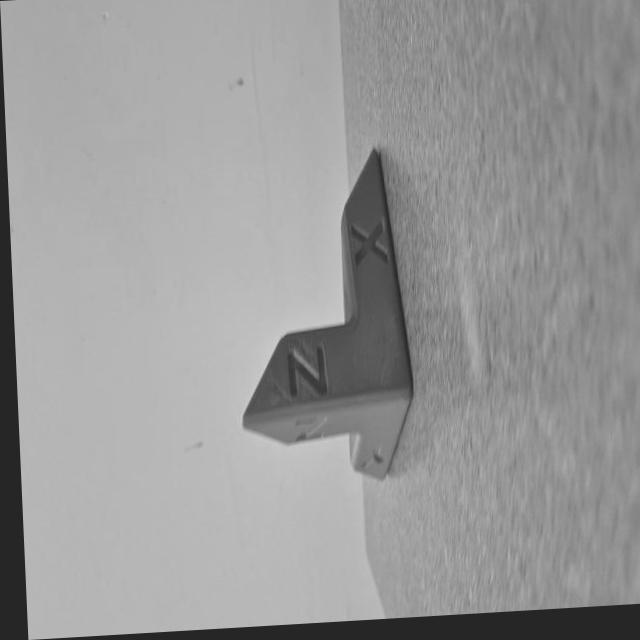eje: (223, 132, 421, 494)
